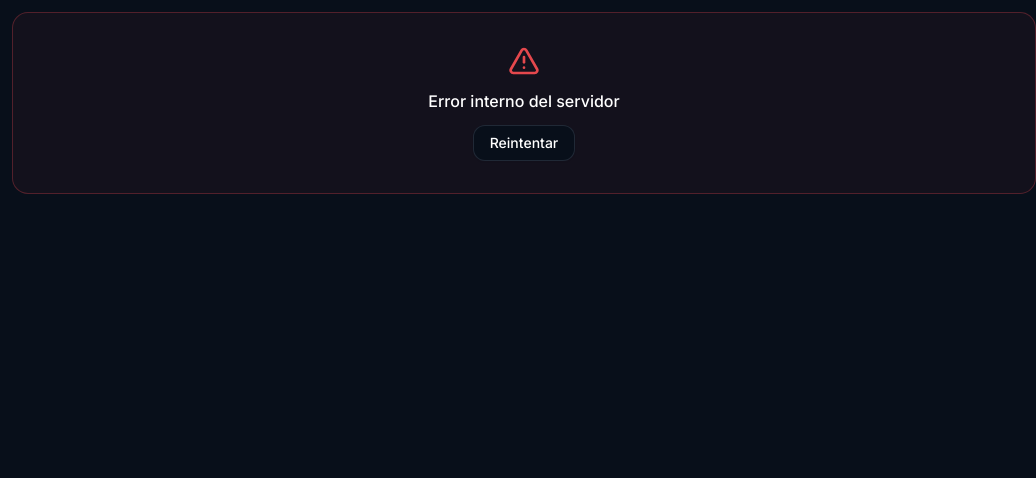
Test: TeamStandingsPage › shows the error of the standings request and retries it
The image size is (1036, 478).
Expected: the message shows "Error interno del servidor", [428,91,620,111]
Click the button "Reintentar": (524, 143) [473,125,575,161]
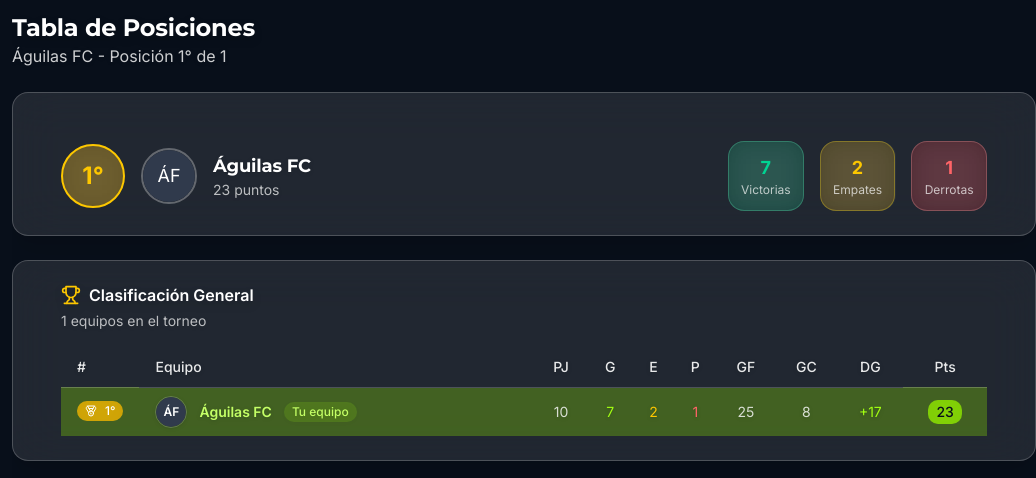
Now the cell "Águilas FC" is shown, box [140,387,534,436]
